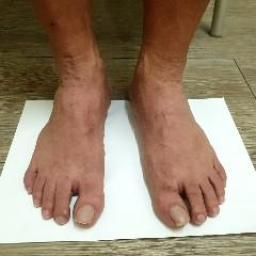Dorsal View -Both Feet-: (6, 30, 251, 248)
